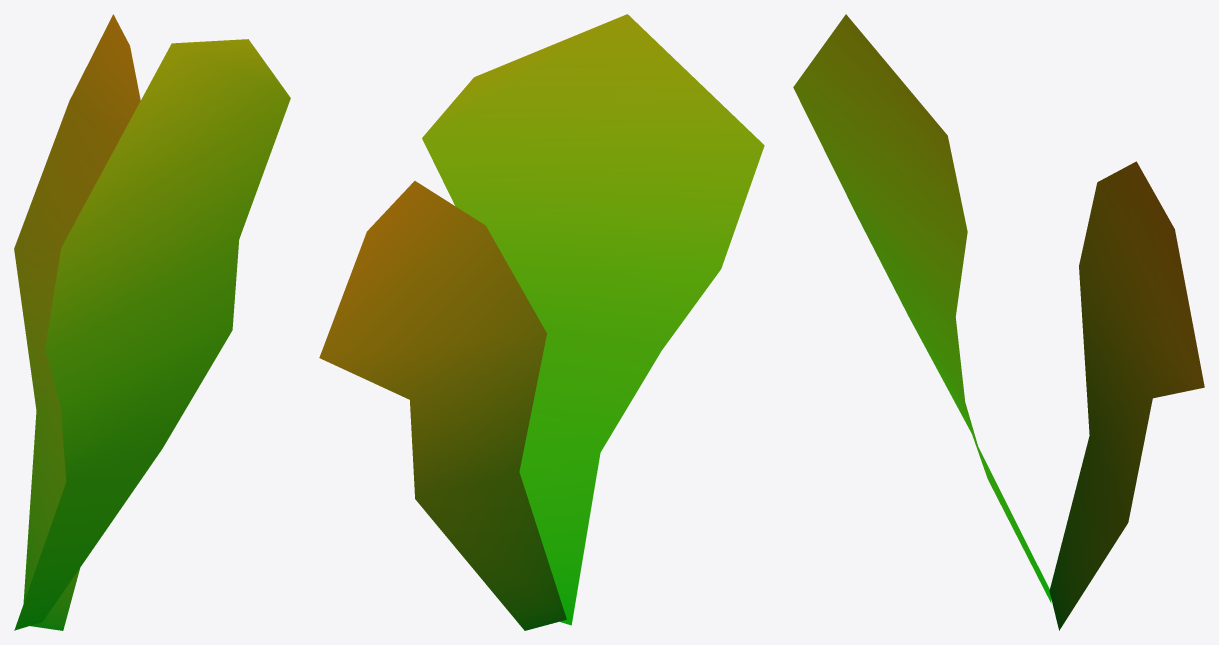
Rendered from Ocean Seaweed_LOD0_Var4_sdDkn.fbx.
The picture shows the model from 3 angles, left to right: view 1: azimuth 30°, elevation 25°; view 2: azimuth 150°, elevation 25°; view 3: azimuth 270°, elevation 25°; orthographic projection. The views are drawn at different scales.
Parts seen in each view (by area): view 1: _79ea_Var4_LOD0; view 2: _79ea_Var4_LOD0; view 3: _79ea_Var4_LOD0.
Part boxes in pixels (left/top/right/bottom): _79ea_Var4_LOD0: left=14, top=14, right=290, bottom=630; _79ea_Var4_LOD0: left=319, top=14, right=764, bottom=630; _79ea_Var4_LOD0: left=793, top=14, right=1204, bottom=630.
Size of the model in its own units: 13.12 by 25.99 by 15.82.
